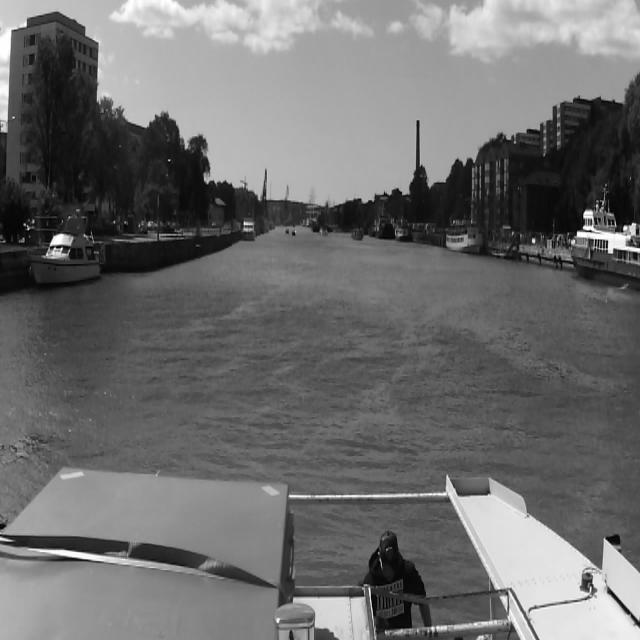ship: (570, 203, 638, 289), (27, 225, 100, 282), (445, 220, 483, 252), (373, 214, 393, 241), (349, 225, 364, 242), (243, 219, 255, 240), (396, 226, 410, 242), (320, 228, 328, 235), (292, 230, 296, 236), (286, 228, 290, 234)
